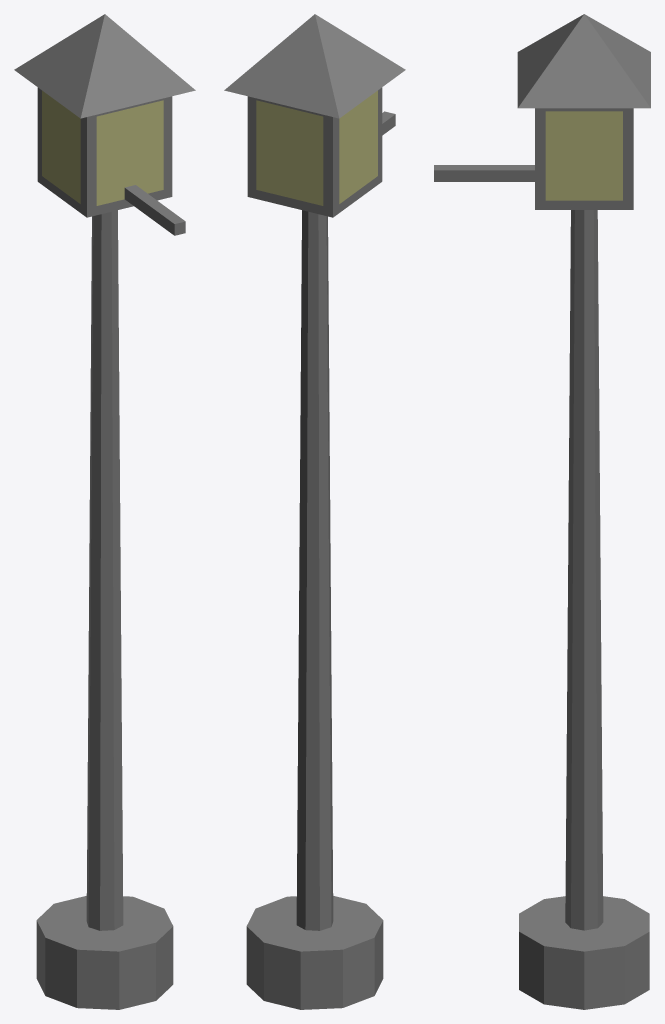
The model's file is lamp_post.glb.
3 renders of one model, left to right at view 1: azimuth 30°, elevation 25°; view 2: azimuth 150°, elevation 25°; view 3: azimuth 270°, elevation 25°, orthographic.
Visible parts, largest first — view 1: lamp_post; view 2: lamp_post; view 3: lamp_post.
Part boxes in pixels (box(x1,y1,x2,y2)): lamp_post: box(14, 14, 195, 1009); lamp_post: box(224, 14, 405, 1009); lamp_post: box(434, 14, 650, 1009).
Size of the model in its own units: 0.64 by 4.97 by 1.01.
